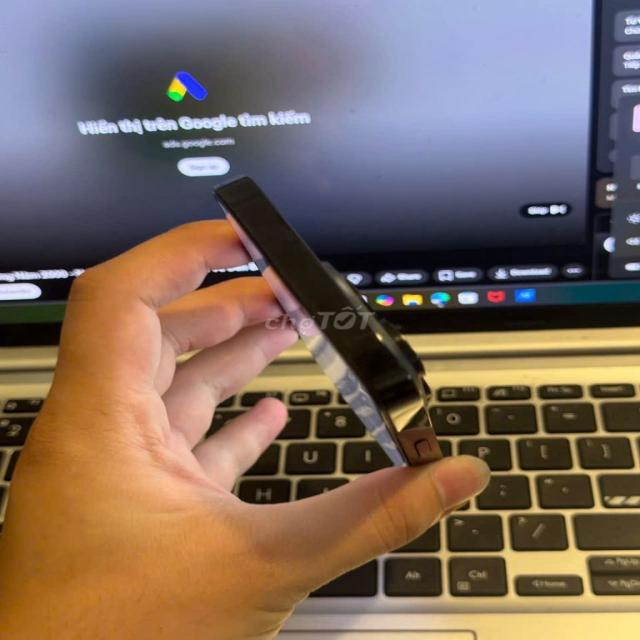gen_14: (221, 165, 473, 492)
